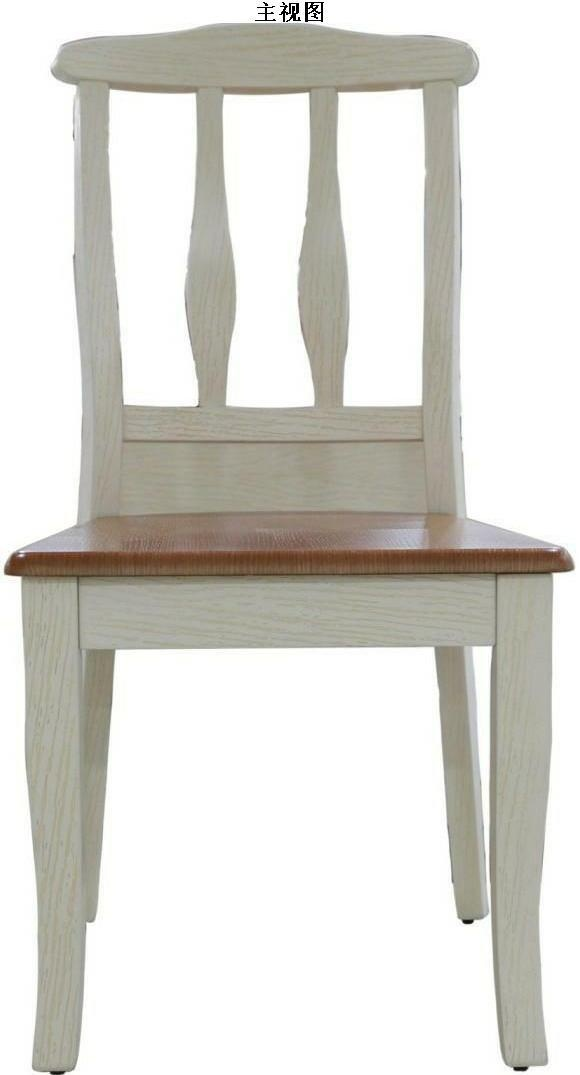obstacle: (13, 24, 570, 1070)
